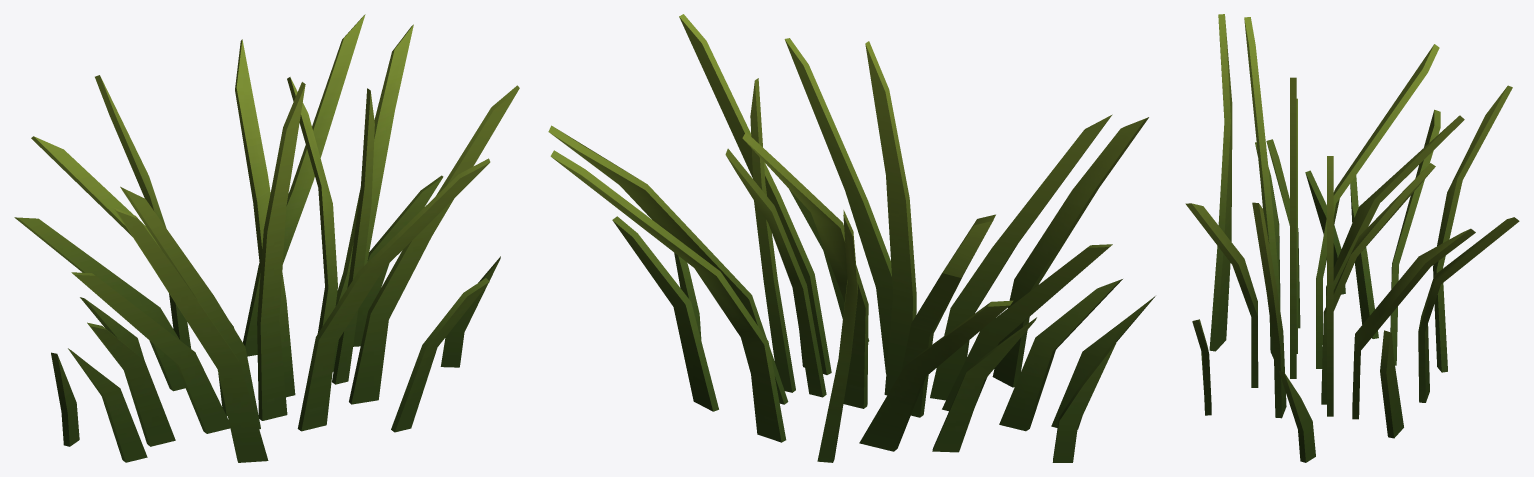
File: Grass_Large_Extruded.glb
The picture shows the model from 3 angles, left to right: view 1: azimuth 30°, elevation 25°; view 2: azimuth 150°, elevation 25°; view 3: azimuth 270°, elevation 25°; orthographic projection. The views are drawn at different scales.
Visible parts, largest first — view 1: Grass_Large_Extruded; view 2: Grass_Large_Extruded; view 3: Grass_Large_Extruded.
Part boxes in pixels (box(x1,y1,x2,y2)): Grass_Large_Extruded: box(14, 14, 519, 462); Grass_Large_Extruded: box(548, 14, 1155, 462); Grass_Large_Extruded: box(1185, 14, 1519, 462).
Size of the model in its own units: 0.7447 by 0.5089 by 0.4973.
Materials: 1 (1 with a texture image).
